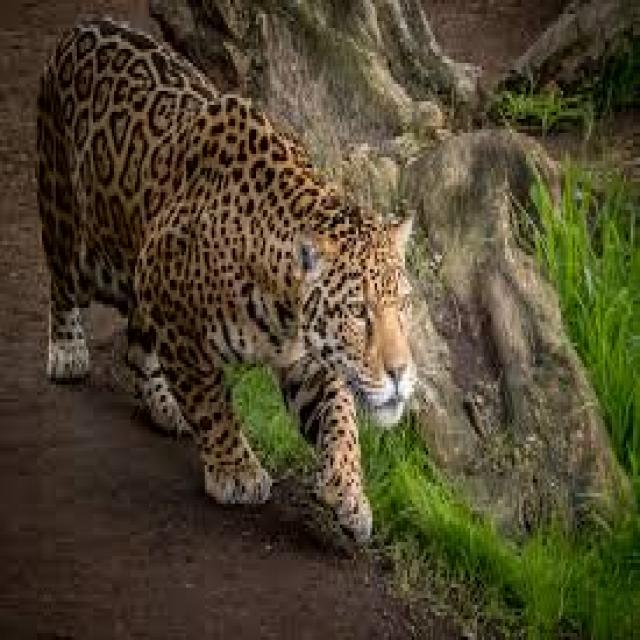Jaguar: (32, 21, 410, 553)
